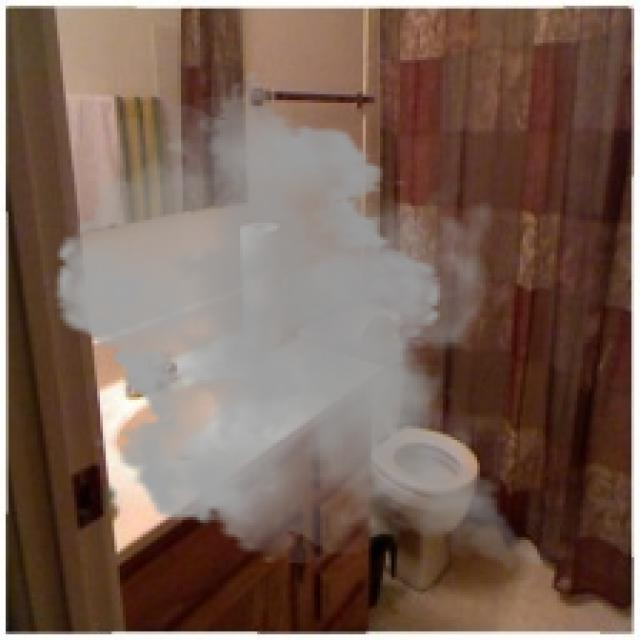Smoke: (40, 68, 580, 583)
